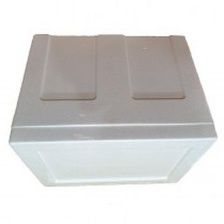foam_box: (3, 30, 221, 191)
